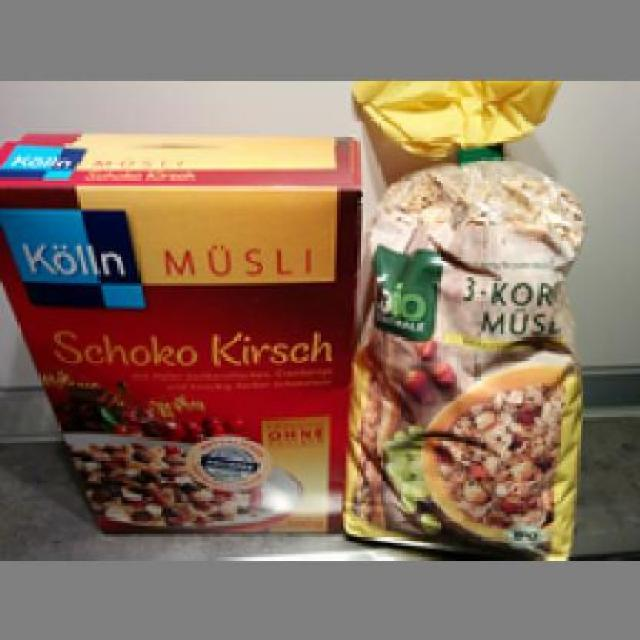Cereal: (0, 128, 357, 528), (343, 74, 583, 560)
